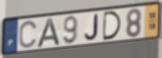8: (125, 8, 143, 39)
9: (62, 14, 79, 45)
A: (36, 17, 62, 49)
C: (18, 20, 39, 50)
D: (102, 10, 123, 42)
J: (84, 13, 99, 42)
